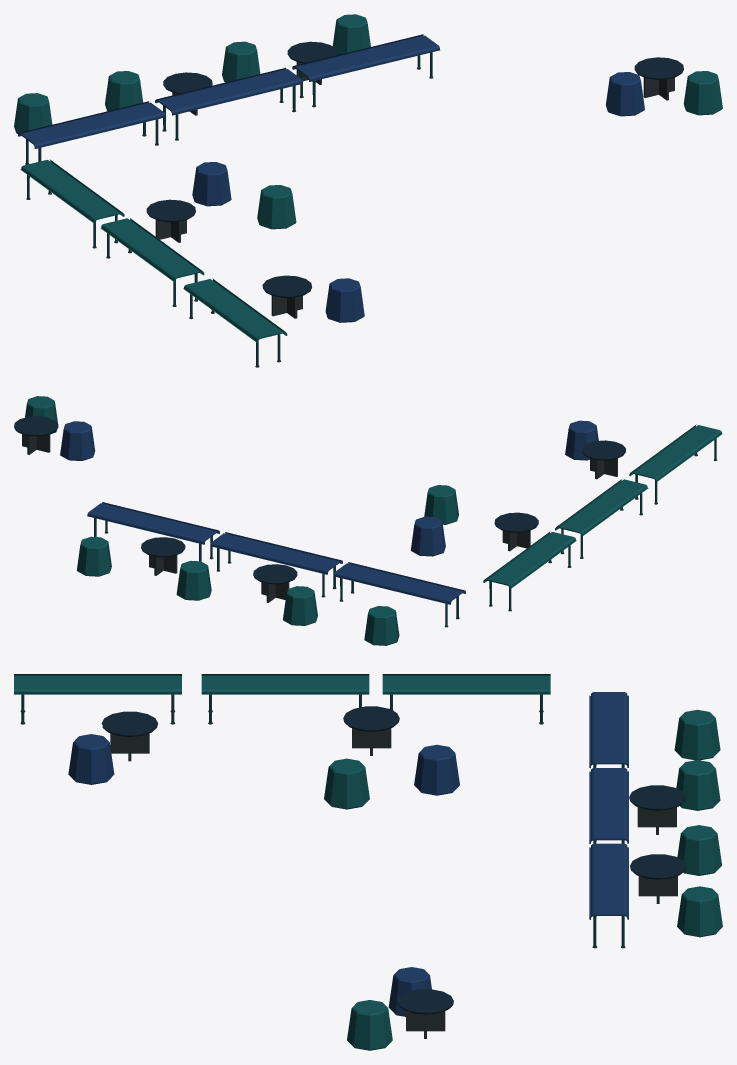
The model's file is seats.glb.
3 renders of one model, top to bottom at view 1: azimuth 30°, elevation 25°; view 2: azimuth 150°, elevation 25°; view 3: azimuth 270°, elevation 25°, orthographic. The views are drawn at different scales.
Visible parts, largest first — view 1: HalffSeats; view 2: HalffSeats; view 3: HalffSeats.
Part boxes in pixels (<box>): HalffSeats: <box>14,14,722,367</box>; HalffSeats: <box>14,396,722,645</box>; HalffSeats: <box>14,674,722,1050</box>.
Bounding box in the file's own units: 9.91 × 0.4925 × 8.66.
